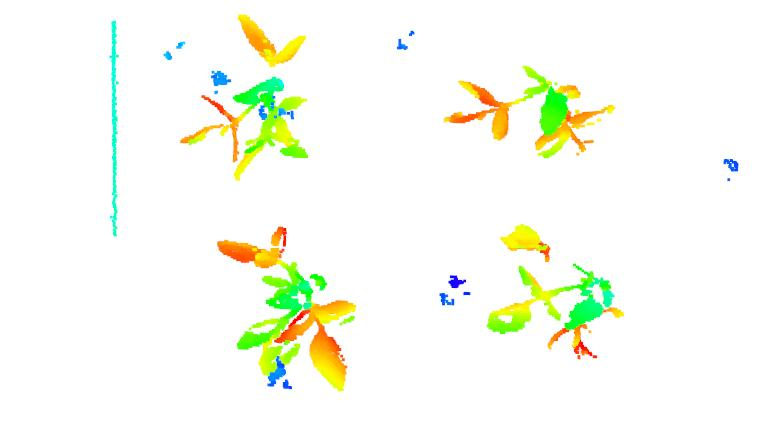mungbean: (218, 222, 357, 394), (178, 12, 314, 182), (482, 224, 623, 363), (442, 65, 618, 159)
